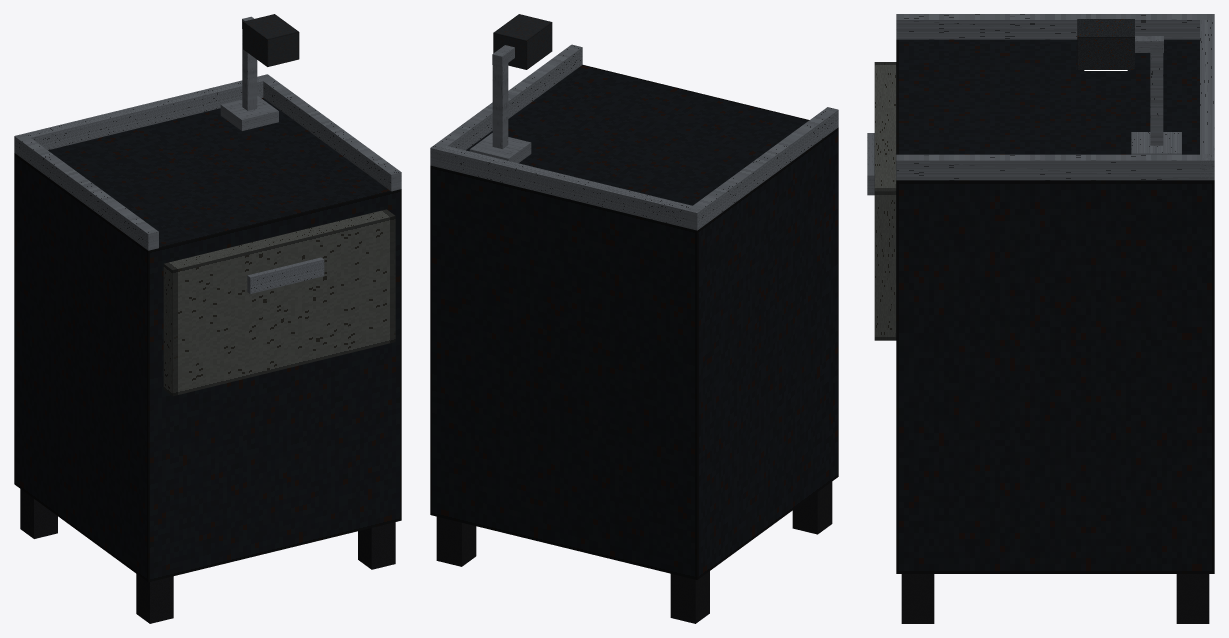
The model's file is nightstand_medbay_clean.glb.
The picture shows the model from 3 angles, left to right: view 1: azimuth 30°, elevation 25°; view 2: azimuth 150°, elevation 25°; view 3: azimuth 270°, elevation 25°; orthographic projection. The views are drawn at different scales.
Parts seen in each view (by area): view 1: nightstand_medbay_clean; view 2: nightstand_medbay_clean; view 3: nightstand_medbay_clean.
Boxes of the visible parts, left/top/right/bottom form: nightstand_medbay_clean: left=14, top=14, right=401, bottom=623; nightstand_medbay_clean: left=430, top=14, right=838, bottom=623; nightstand_medbay_clean: left=867, top=14, right=1214, bottom=623.
Bounding box in the file's own units: 0.48 × 0.875 × 0.48.
5 materials, 5 textured.
